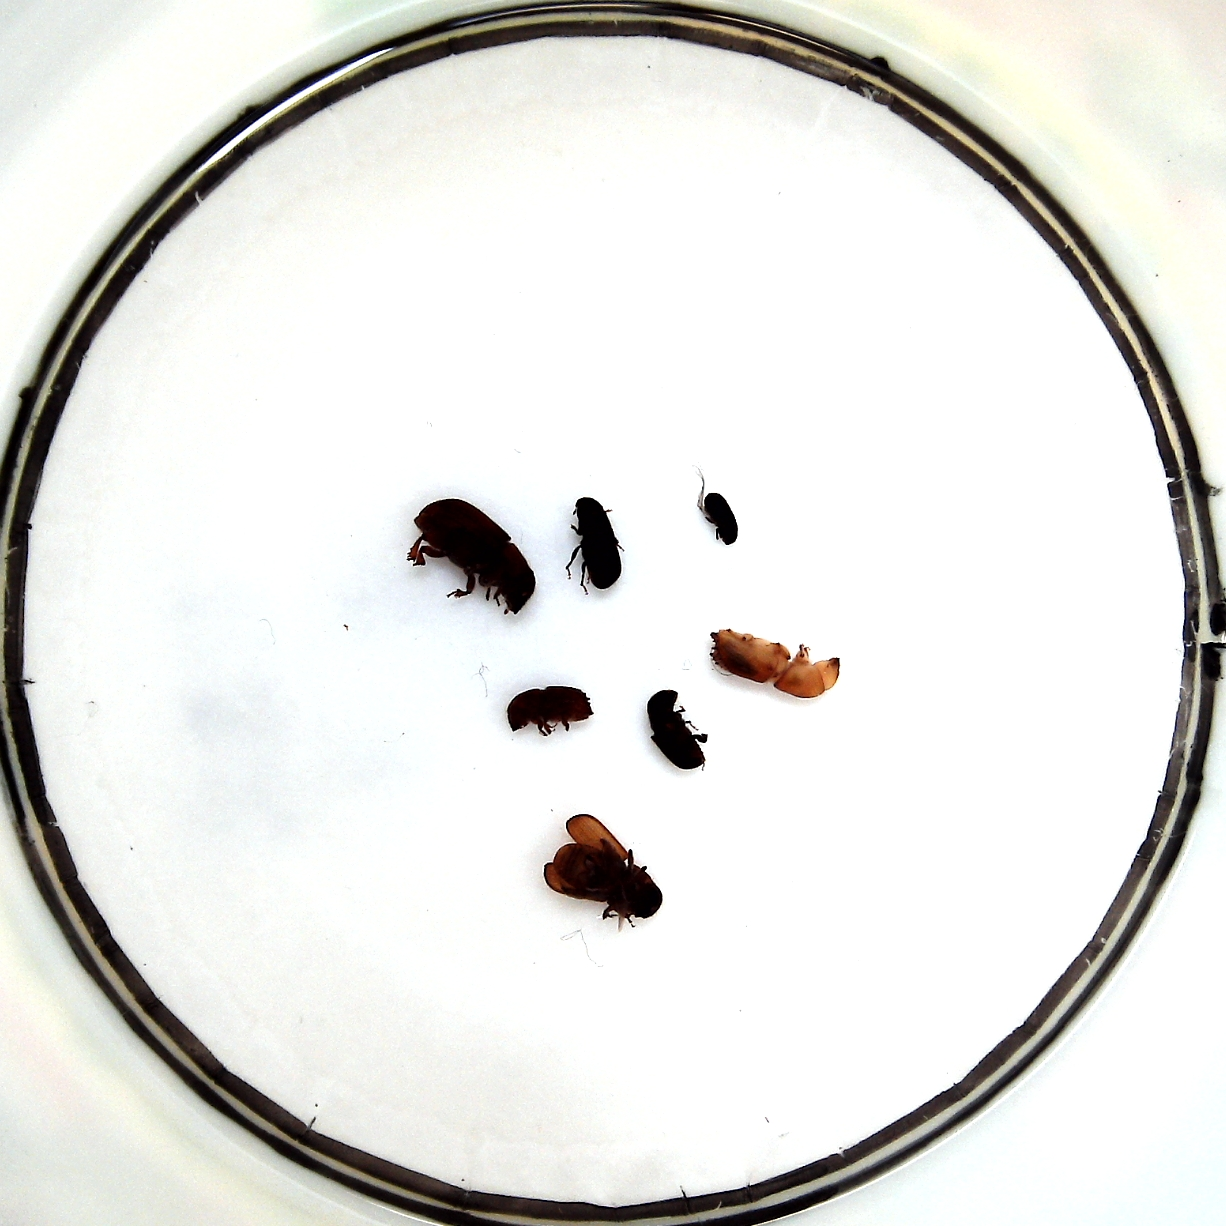Boerner: (710, 628, 841, 699)
Leconte: (414, 497, 536, 616), (543, 813, 664, 919)
armandi: (648, 689, 707, 771), (576, 496, 621, 589)
coleoptera: (704, 493, 738, 546)
linnaeus: (507, 685, 594, 733)
